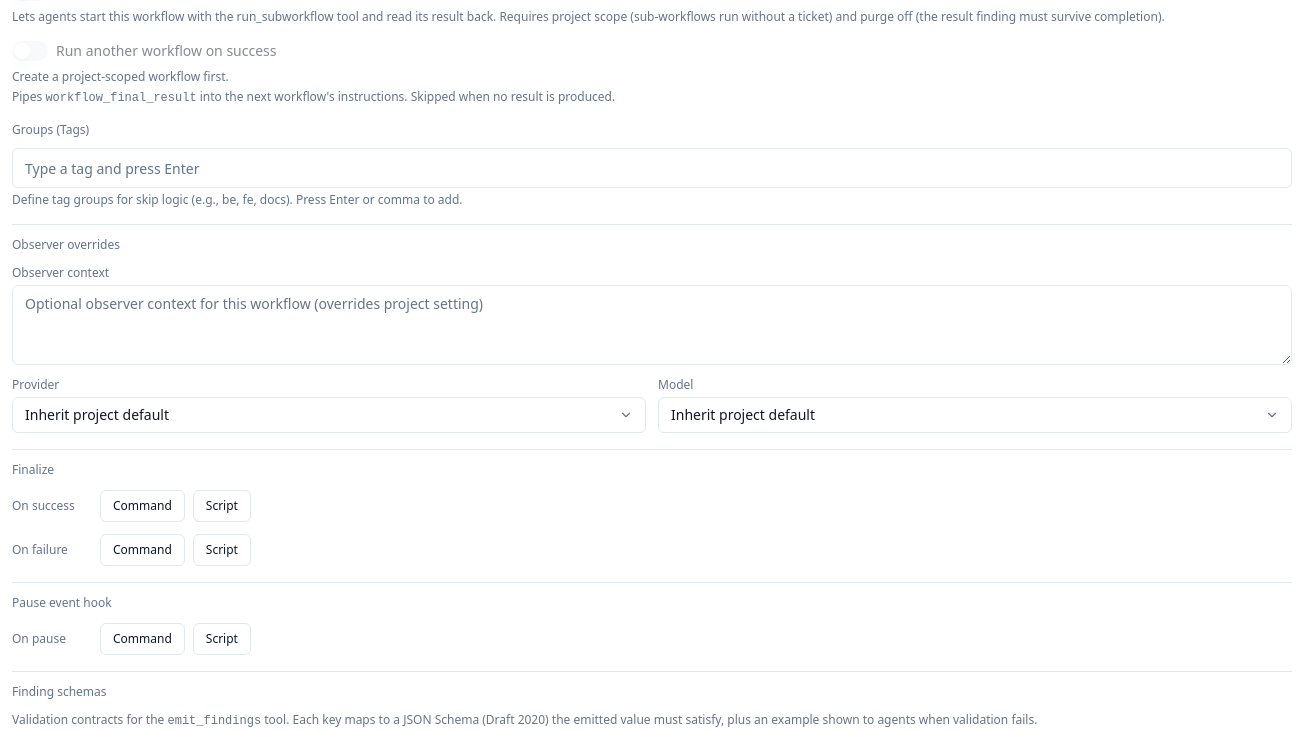
Test: WorkflowDefForm — Pause section › command mode toggle › shows pause command input when pause Command button clicked
(page scrolled)
The 3rd Command button is for the pause slot
What coordinates should you click on to do the following:
click the button "Command" next to "On pause"
I would click on:
 (142, 639)
Its box is left=100, top=623, right=185, bottom=655.
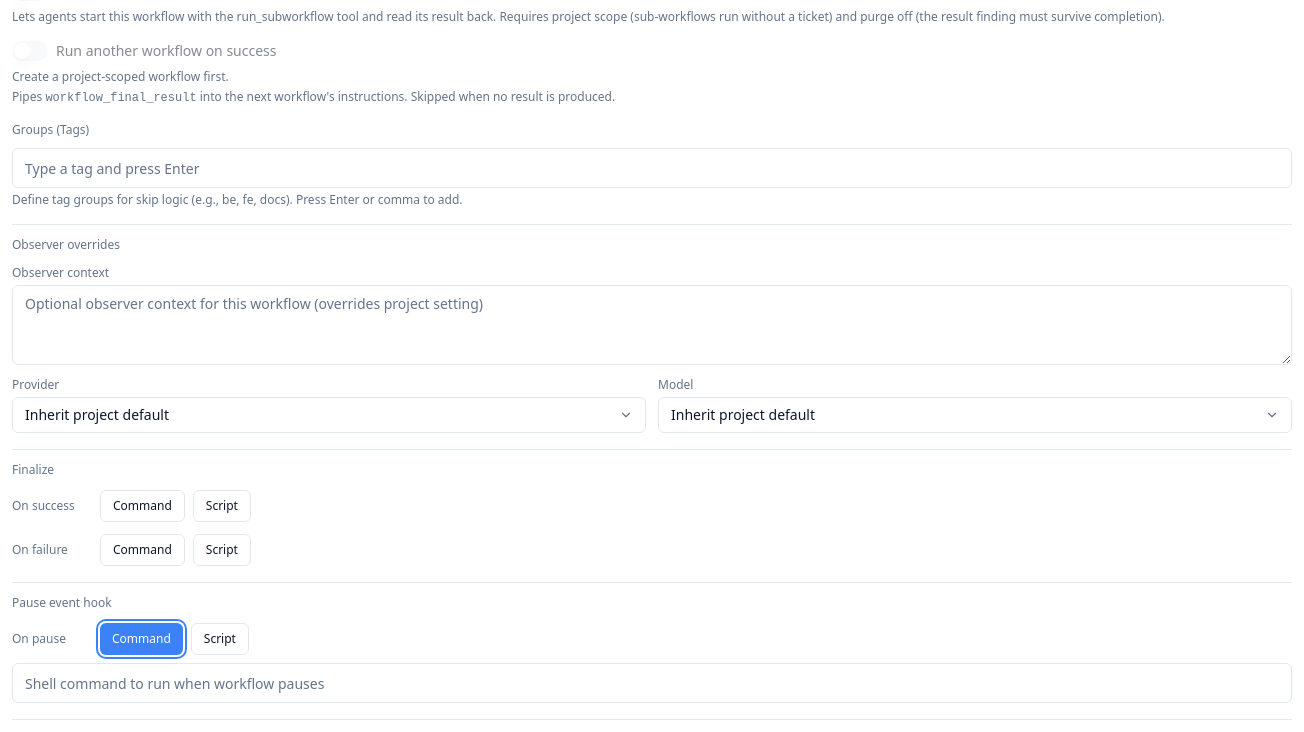
expect the field with placeholder "Shell command to run when workflow pauses" is shown: met, box left=12, top=663, right=1292, bottom=703
